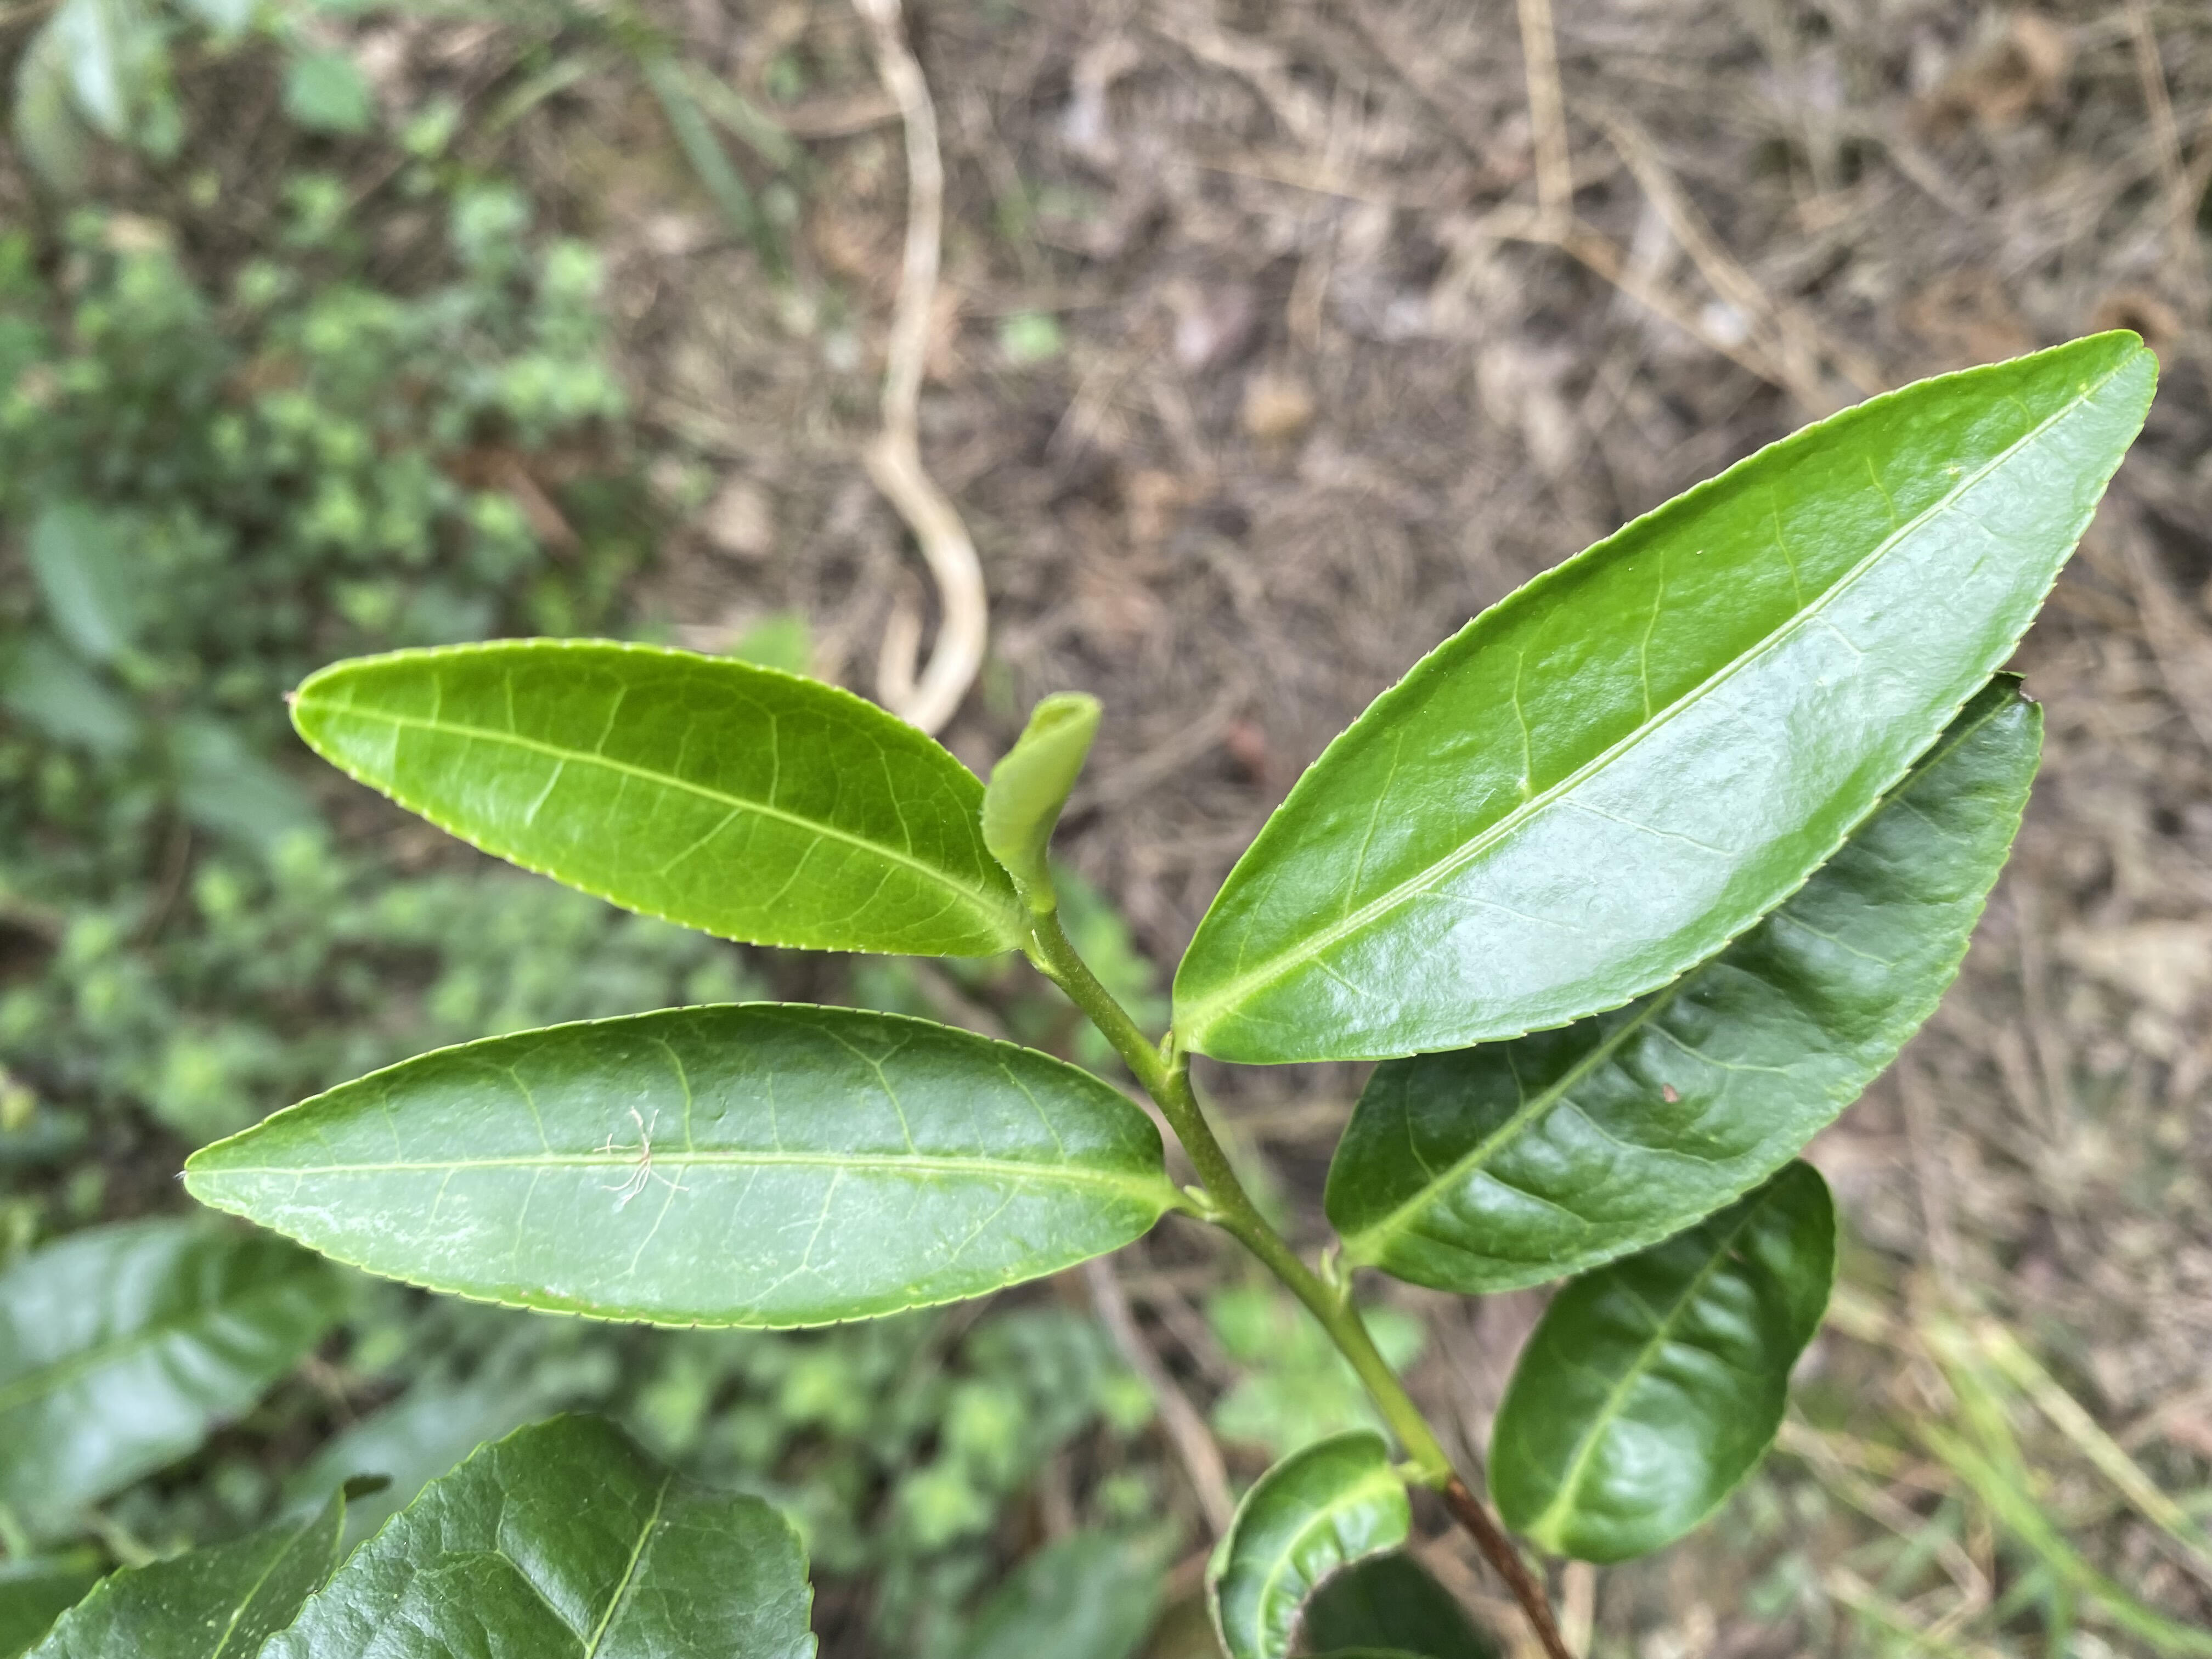healthy: (1174, 329, 2161, 1065), (178, 997, 1176, 1333), (286, 634, 1024, 965)
tanju_low: (1325, 669, 2043, 1298)
